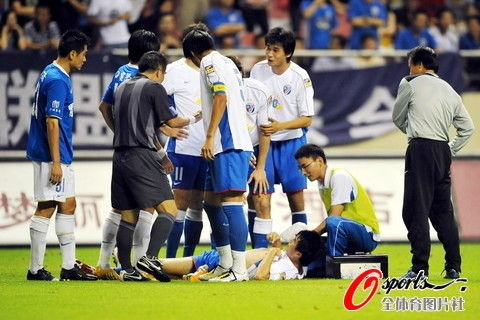falling: (54, 228, 323, 287)
